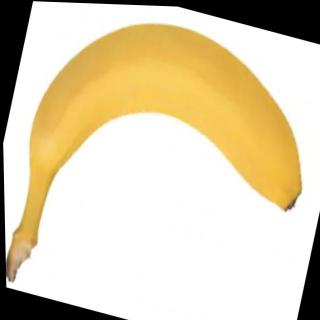banana: (17, 0, 320, 238)
